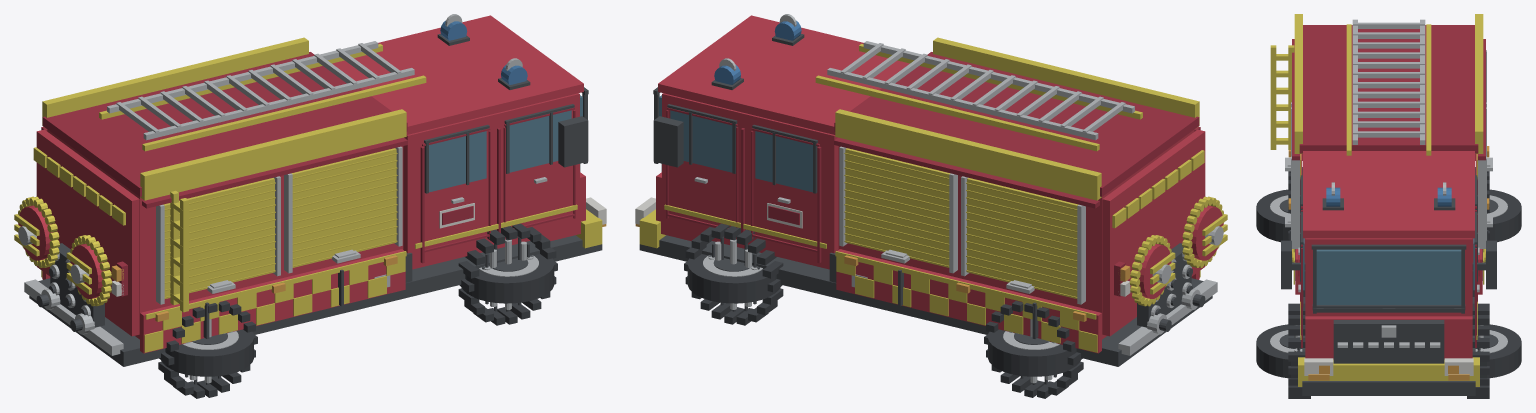
The model's file is ccrm-le-chesne.glb.
The picture shows the model from 3 angles, left to right: view 1: azimuth 30°, elevation 25°; view 2: azimuth 150°, elevation 25°; view 3: azimuth 270°, elevation 25°; orthographic projection. The views are drawn at different scales.
Visible parts, largest first — view 1: roof_3, cab_roof_5, cab_4, roller_shutter_142, rear_panel_226, roller_shutter_125, upper_banner_123, chassis_1, upper_banner_34, lower_compartments_159, body_2, door_window_115 (+23 smaller); view 2: roof_3, cab_roof_5, cab_4, roller_shutter_36, roller_shutter_53, rear_panel_226, upper_banner_34, chassis_1, upper_banner_123, lower_compartments_70, body_2, door_window_26 (+22 smaller); view 3: roof_3, cab_roof_5, windshield_7, grille_9, cab_4, bonnet_6, chassis_1, bumper_17, tyre_98, tyre_187, upper_banner_34, upper_banner_123 (+36 smaller).
Part boxes in pixels (<box>): roof_3: <box>42,52,407,196</box>; cab_roof_5: <box>332,15,583,134</box>; cab_4: <box>403,93,579,269</box>; roller_shutter_142: <box>291,148,396,267</box>; rear_panel_226: <box>36,129,139,336</box>; roller_shutter_125: <box>163,178,274,298</box>; upper_banner_123: <box>140,109,406,200</box>; chassis_1: <box>29,235,602,366</box>; upper_banner_34: <box>42,37,308,127</box>; lower_compartments_159: <box>140,249,405,353</box>; body_2: <box>47,129,403,339</box>; door_window_115: <box>429,131,486,192</box>; roof_3: <box>834,52,1199,196</box>; cab_roof_5: <box>658,15,909,134</box>; cab_4: <box>662,93,838,269</box>; roller_shutter_36: <box>967,178,1078,298</box>; roller_shutter_53: <box>845,148,950,267</box>; rear_panel_226: <box>1102,129,1205,336</box>; upper_banner_34: <box>835,109,1101,200</box>; chassis_1: <box>639,235,1212,366</box>; upper_banner_123: <box>933,37,1199,127</box>; lower_compartments_70: <box>836,249,1101,353</box>; body_2: <box>838,129,1194,339</box>; door_window_26: <box>755,131,812,192</box>; roof_3: <box>1299,25,1478,153</box>; cab_roof_5: <box>1303,151,1474,238</box>; windshield_7: <box>1316,249,1461,304</box>; grille_9: <box>1333,320,1444,363</box>; cab_4: <box>1305,238,1472,316</box>; bonnet_6: <box>1305,316,1472,359</box>; chassis_1: <box>1302,167,1475,395</box>; bumper_17: <box>1298,357,1479,386</box>; tyre_98: <box>1480,324,1521,378</box>; tyre_187: <box>1256,324,1297,378</box>; upper_banner_34: <box>1475,14,1483,153</box>; upper_banner_123: <box>1294,14,1302,153</box>.
Bounding box in the file's own units: 7.93 × 3.62 × 3.86.
